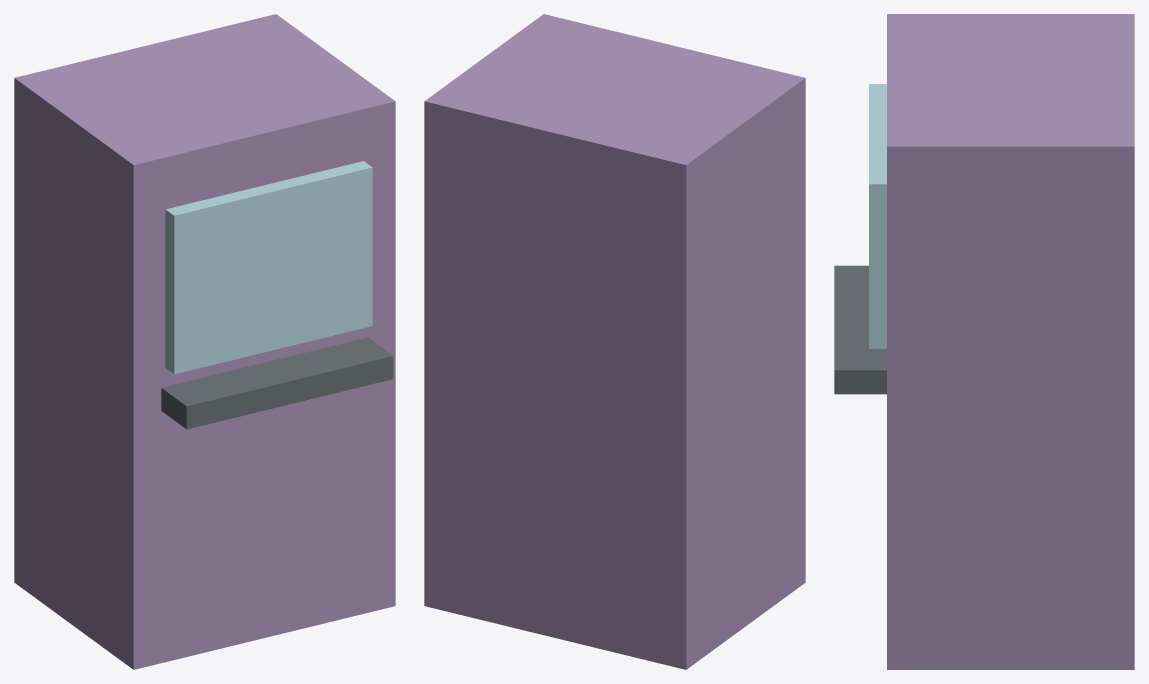
Rendered from arcade_machine.glb.
3 views of the same model, side by side, from view 1: azimuth 30°, elevation 25°; view 2: azimuth 150°, elevation 25°; view 3: azimuth 270°, elevation 25° (orthographic). The views are drawn at different scales.
Parts seen in each view (by area): view 1: part_00, part_01, part_02; view 2: part_00; view 3: part_00, part_02, part_01.
Boxes of the visible parts, left/top/right/bottom form: part_00: left=14, top=14, right=395, bottom=669; part_01: left=165, top=161, right=372, bottom=374; part_02: left=161, top=337, right=393, bottom=429; part_00: left=424, top=14, right=805, bottom=669; part_00: left=887, top=14, right=1134, bottom=669; part_02: left=834, top=265, right=886, bottom=394; part_01: left=869, top=84, right=886, bottom=348.
Size of the model in its own units: 0.95 by 1.75 by 0.91.
